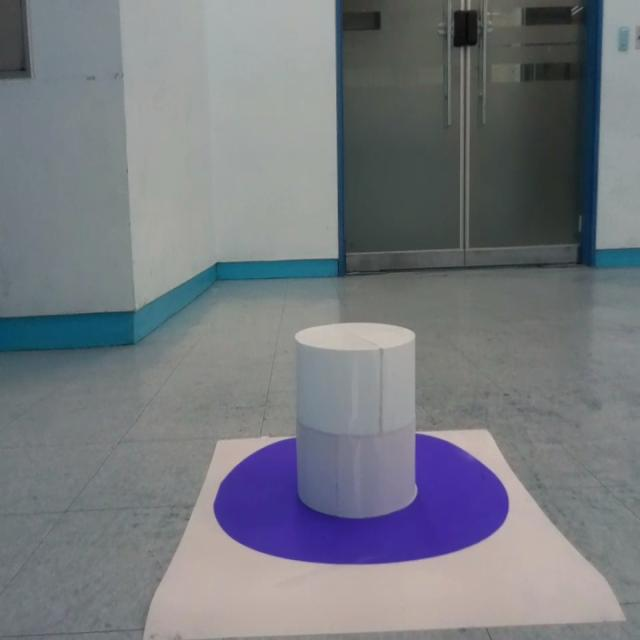cylinder: (294, 320, 416, 520)
